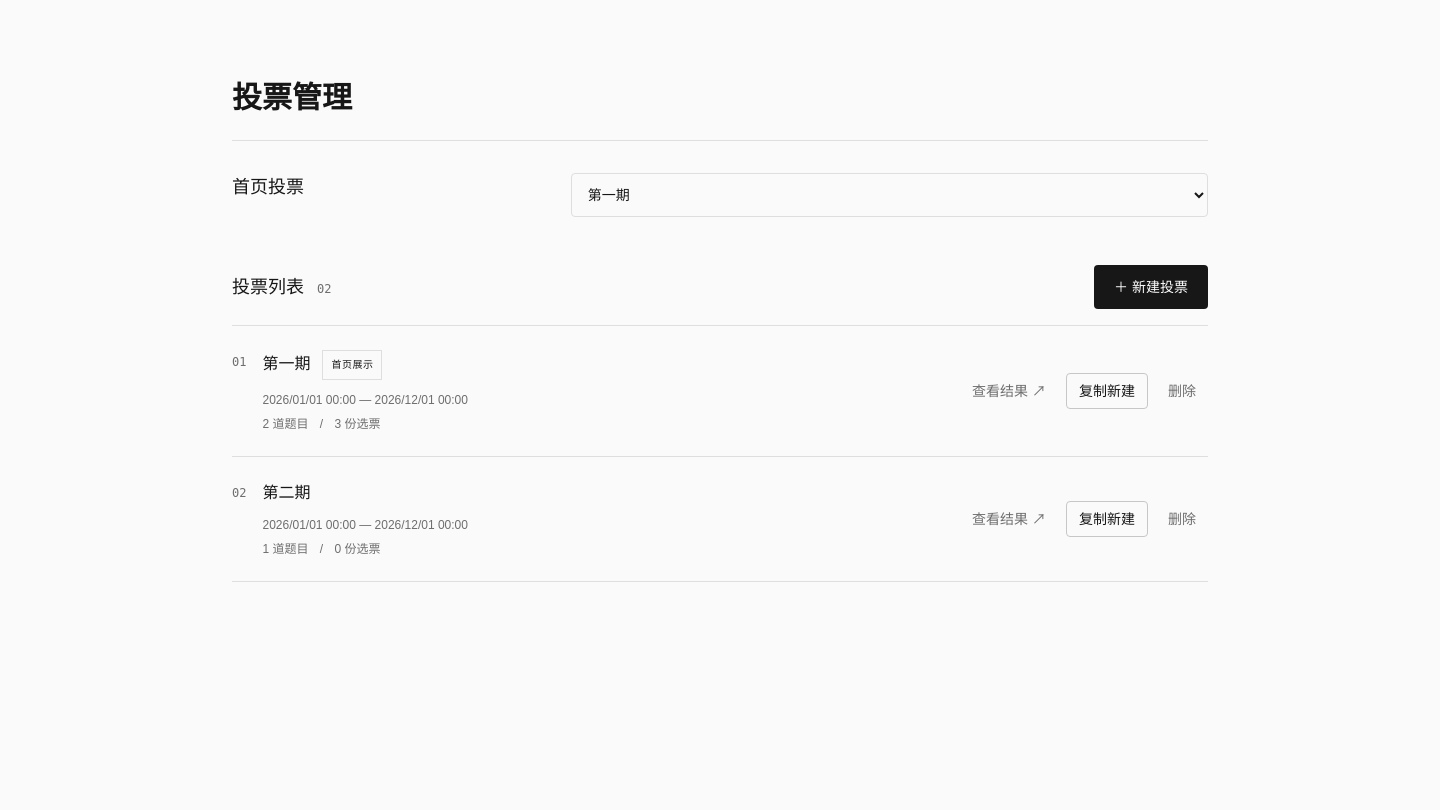
confirms deletion, cancels safely, and clears the active poll and its results
Click the button with aria-label "查看第一期结果". click: (1009, 391)
box: [960,373,1058,409]
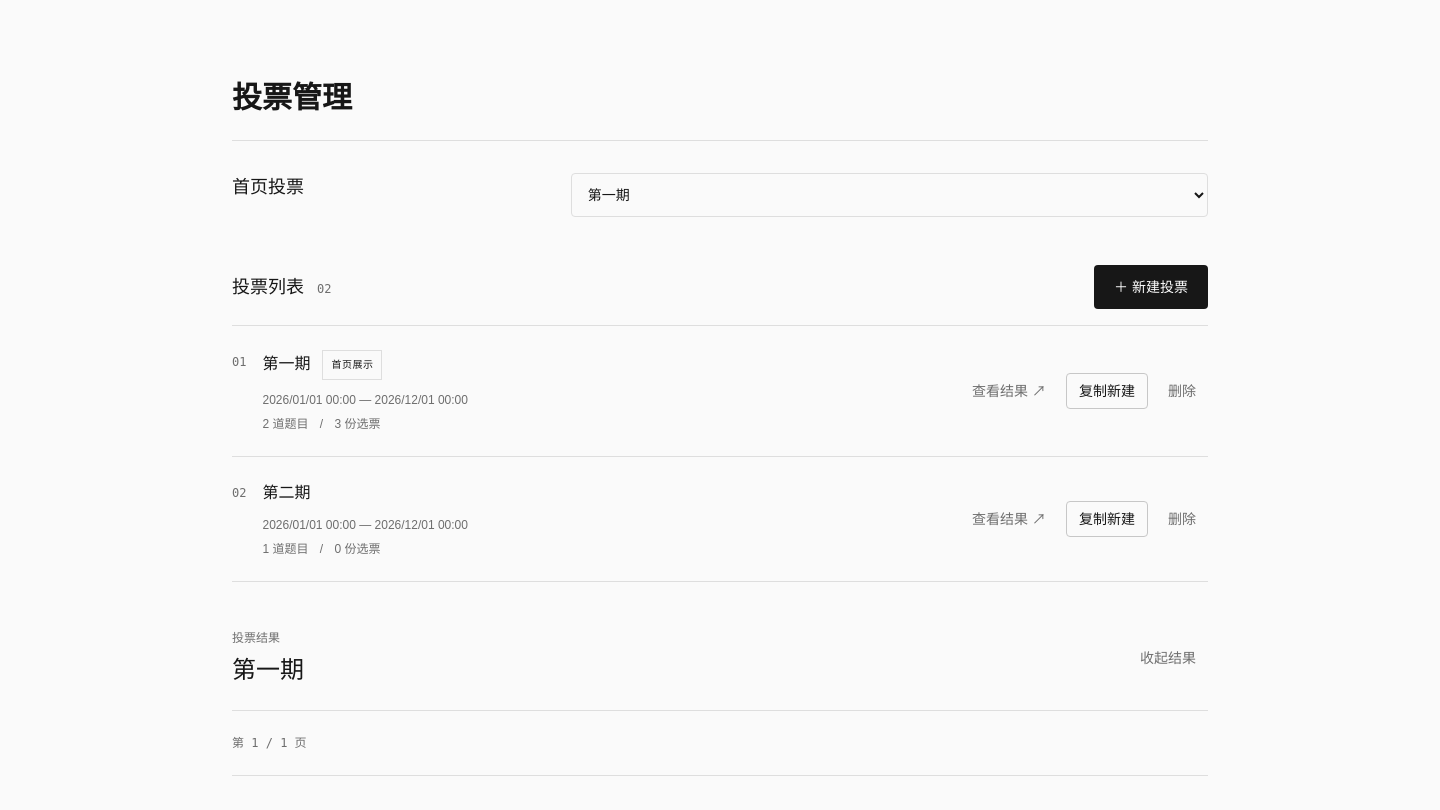
Click the button with aria-label "删除第一期". click: (1182, 391)
box: [1156,373,1208,409]
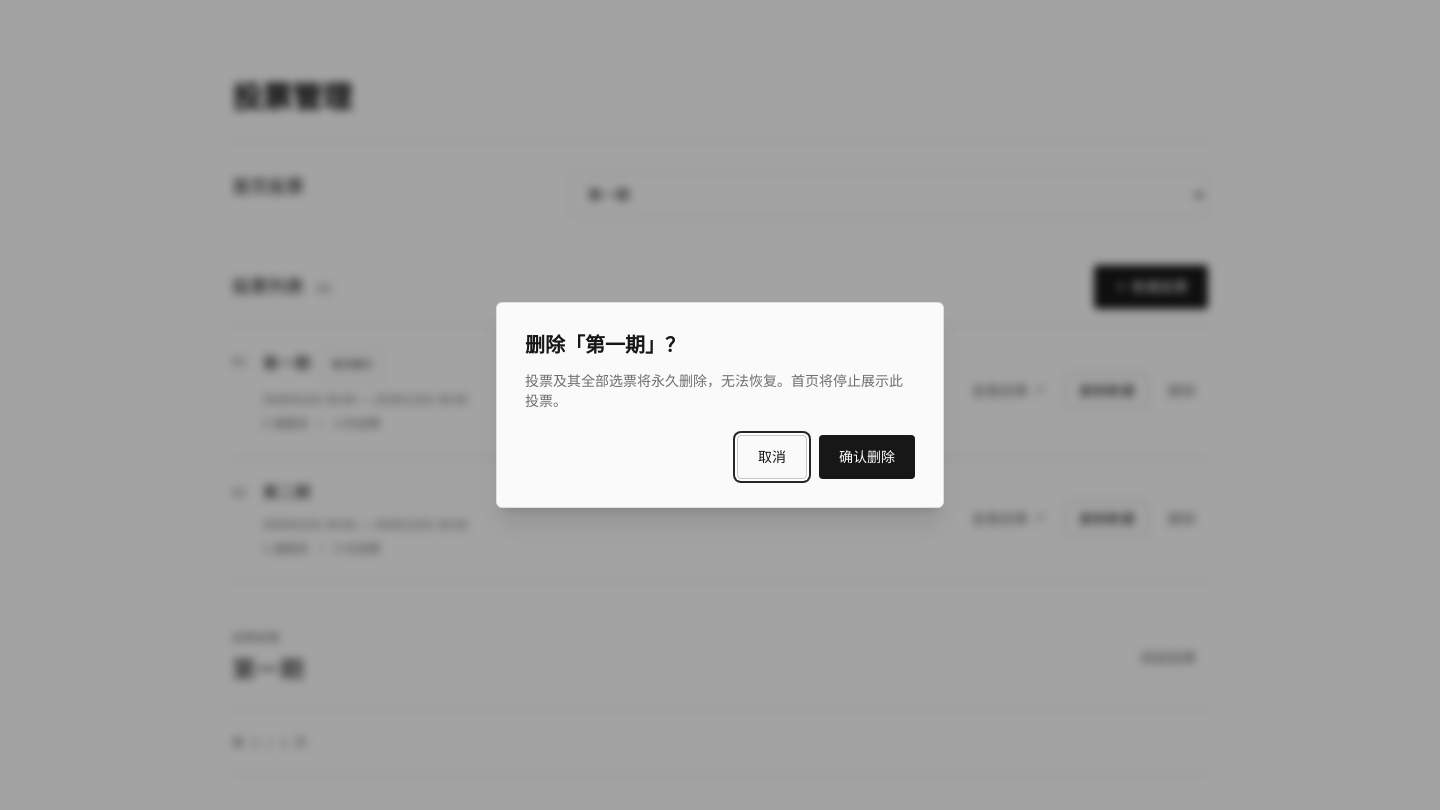
Now the dialog shows "无法恢复", box [525,373,791,389]
Click the button "取消". click: (772, 457)
box: [737,435,807,479]
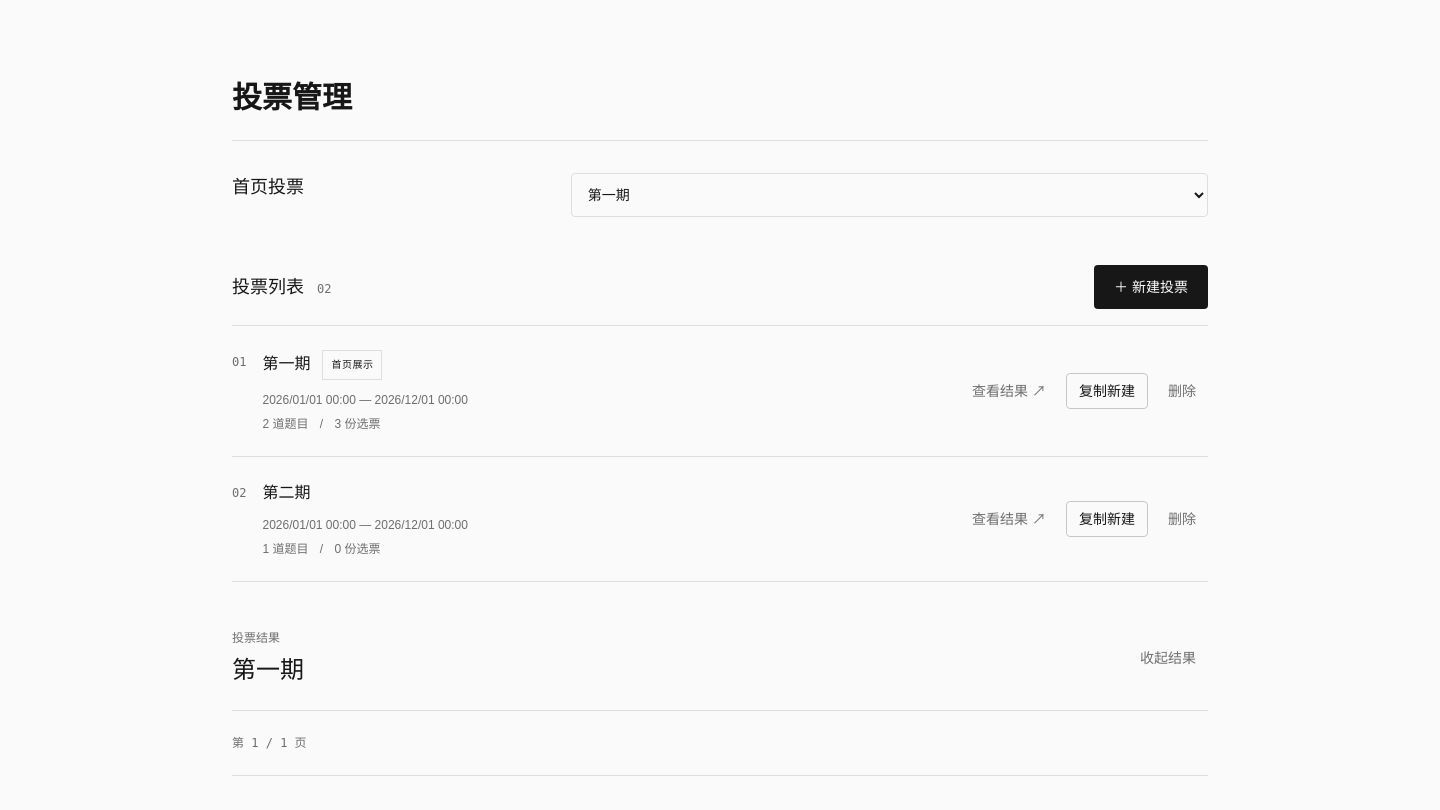
Click the button with aria-label "删除第一期". click: (1182, 391)
box: [1156,373,1208,409]
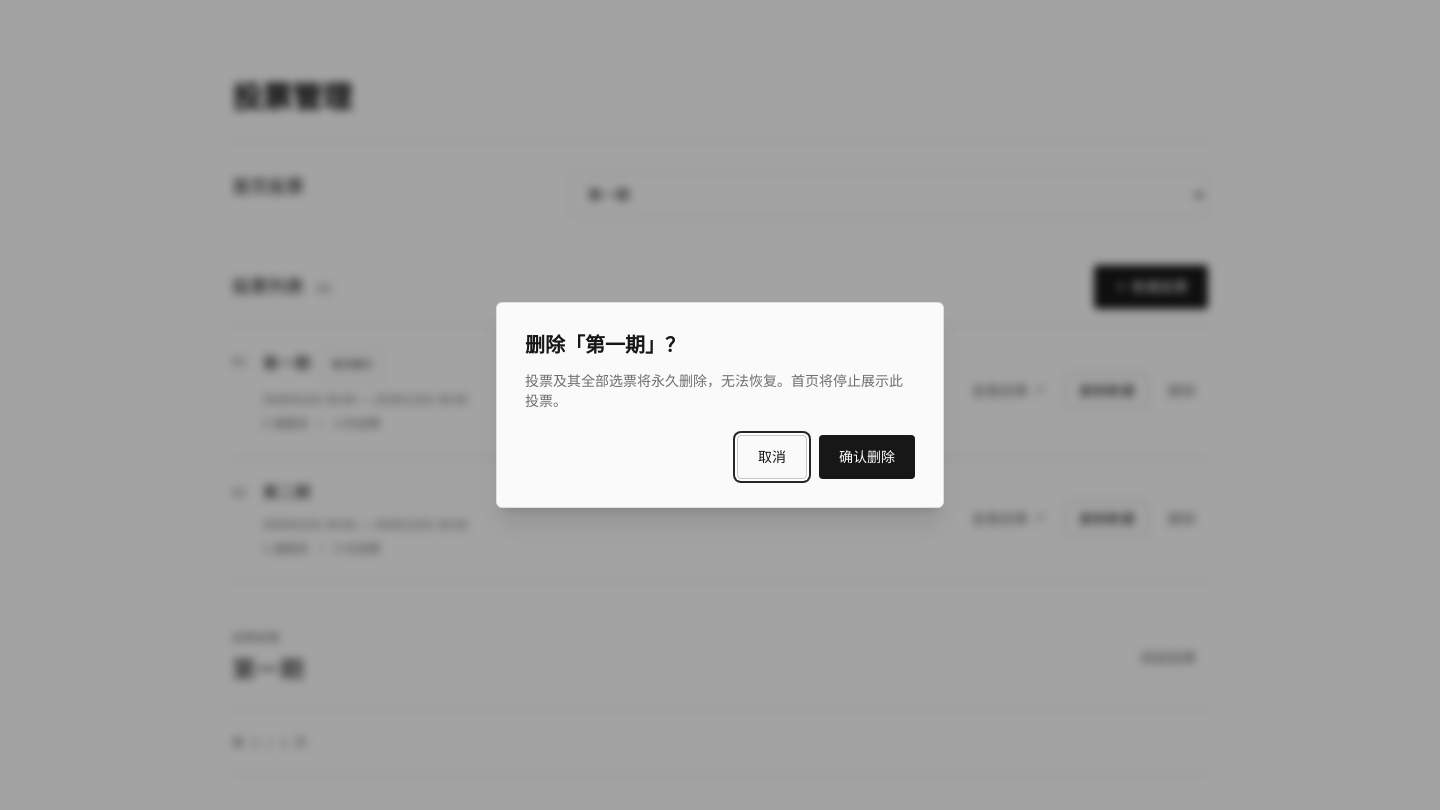
Click the button "确认删除". click: (867, 457)
box: [819,435,915,479]
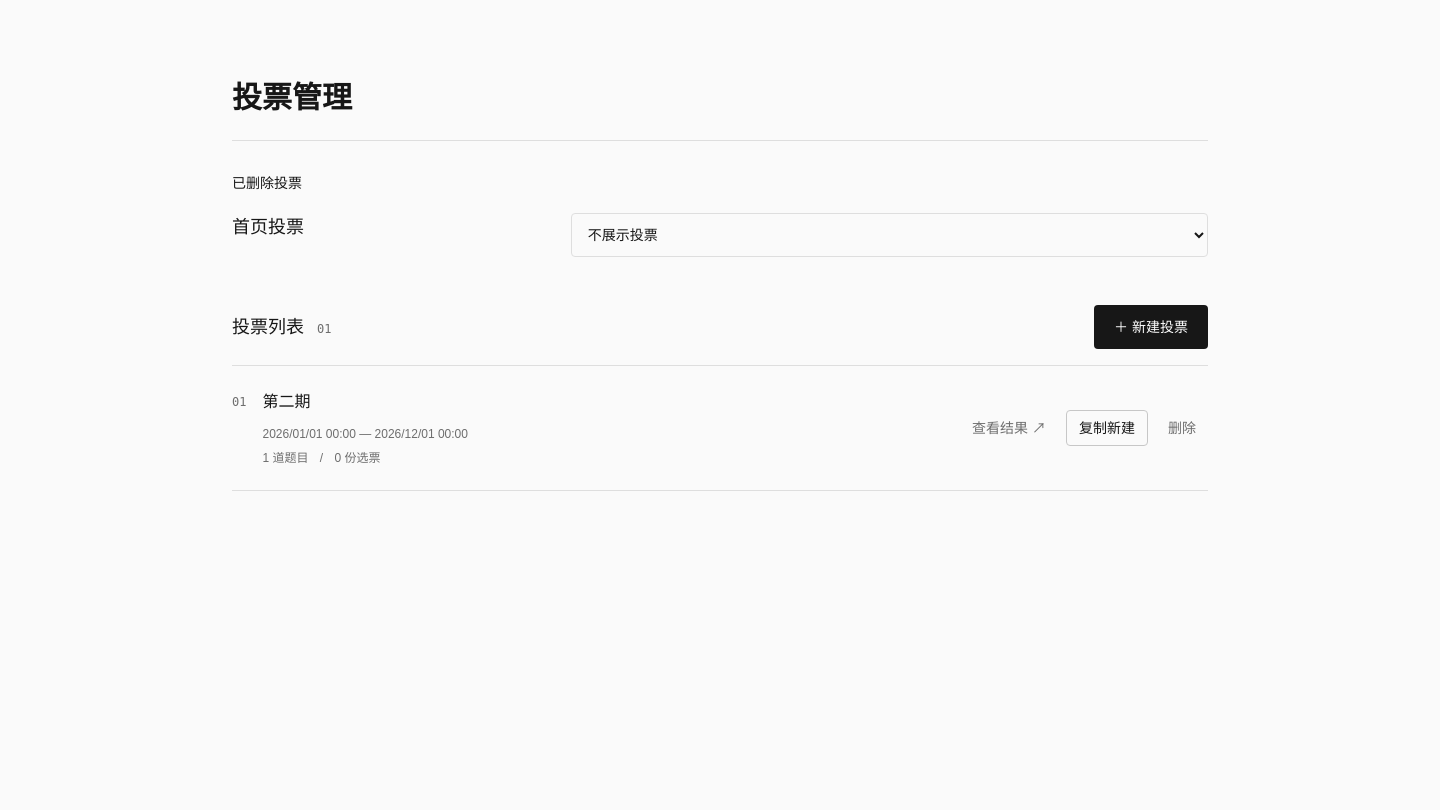
Expected: the button with aria-label "删除第二期" is shown, [1156,410,1208,446]
Now the button "删除第一期" is gone
Now the dropdown shows "不展示投票", box [571,213,1208,257]
